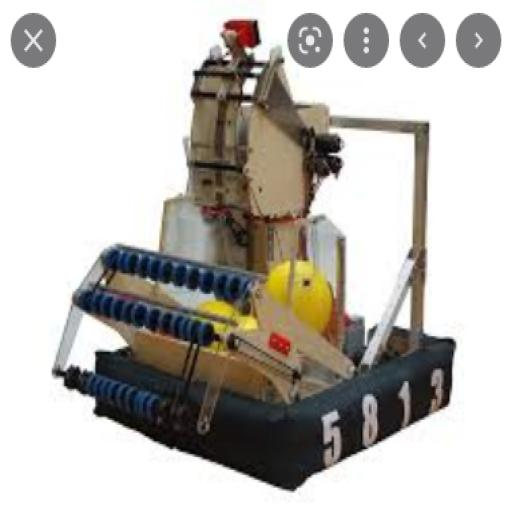robot: (51, 13, 453, 491)
